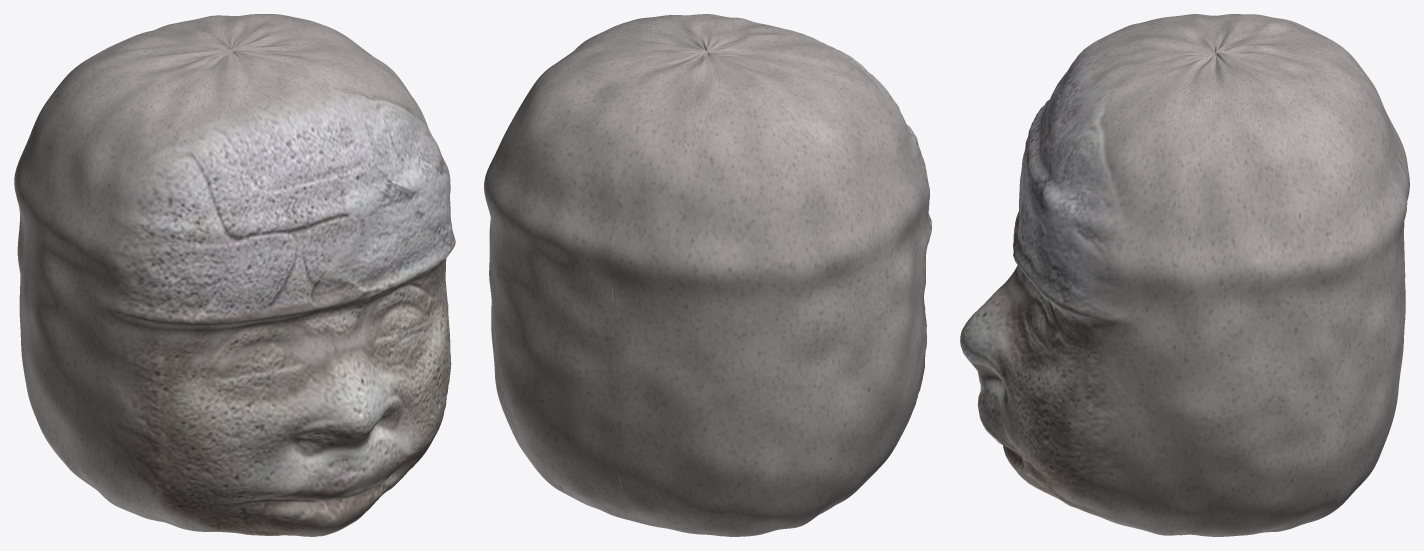
Rendered from CabezaOlmeca.fbx.
3 renders of one model, left to right at view 1: azimuth 30°, elevation 25°; view 2: azimuth 150°, elevation 25°; view 3: azimuth 270°, elevation 25°, orthographic.
Visible parts, largest first — view 1: CabezaOlmeca; view 2: CabezaOlmeca; view 3: CabezaOlmeca.
Part boxes in pixels (x1=…): CabezaOlmeca: x1=14, y1=14, x2=455, y2=536; CabezaOlmeca: x1=484, y1=14, x2=931, y2=536; CabezaOlmeca: x1=960, y1=14, x2=1409, y2=536.
Bounding box in the file's own units: 1.6 × 1.69 × 1.61.
1 material, 1 textured.
